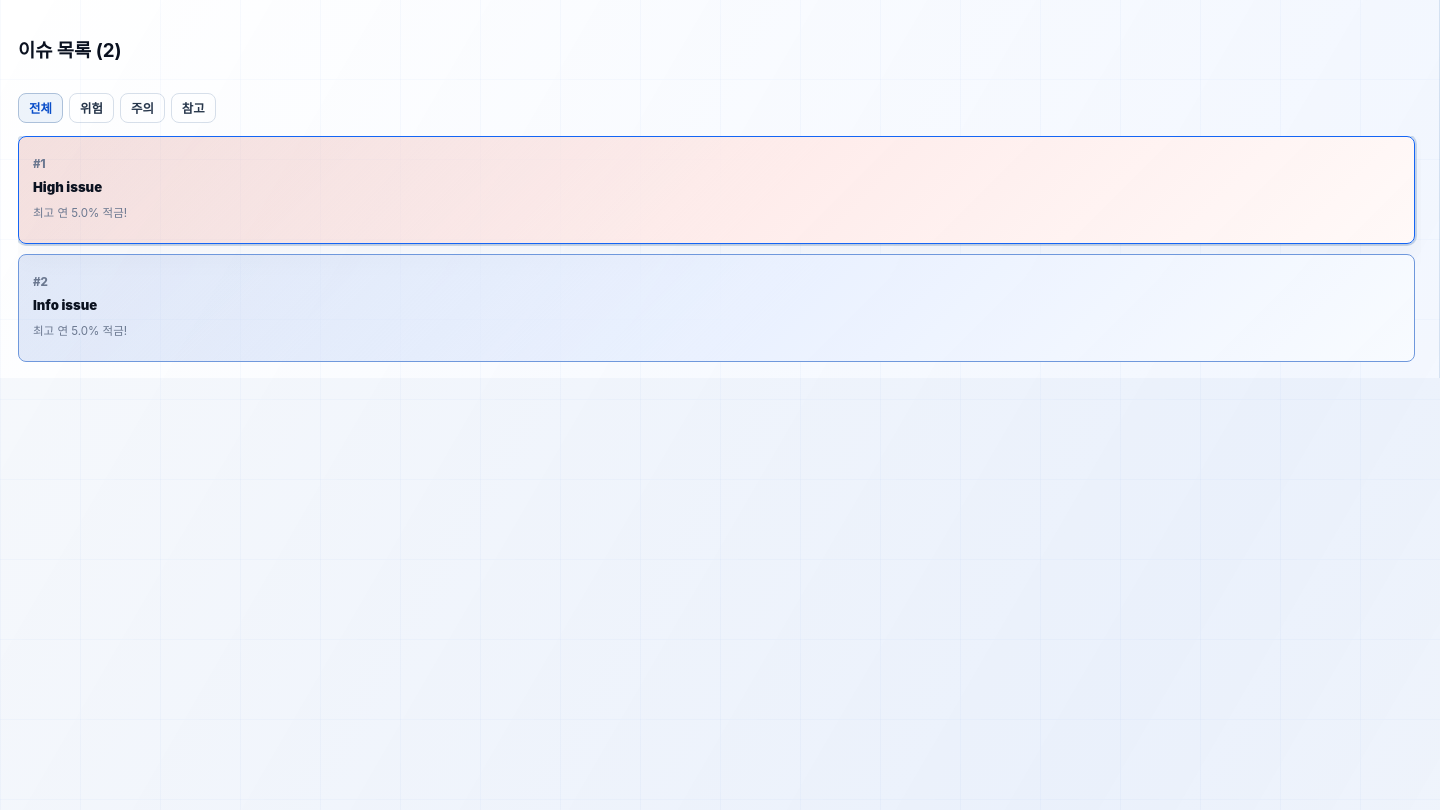
Scenario: IssueList › filters by risk level chip
Click the button "위험". click: (92,108)
box: [69,93,114,123]
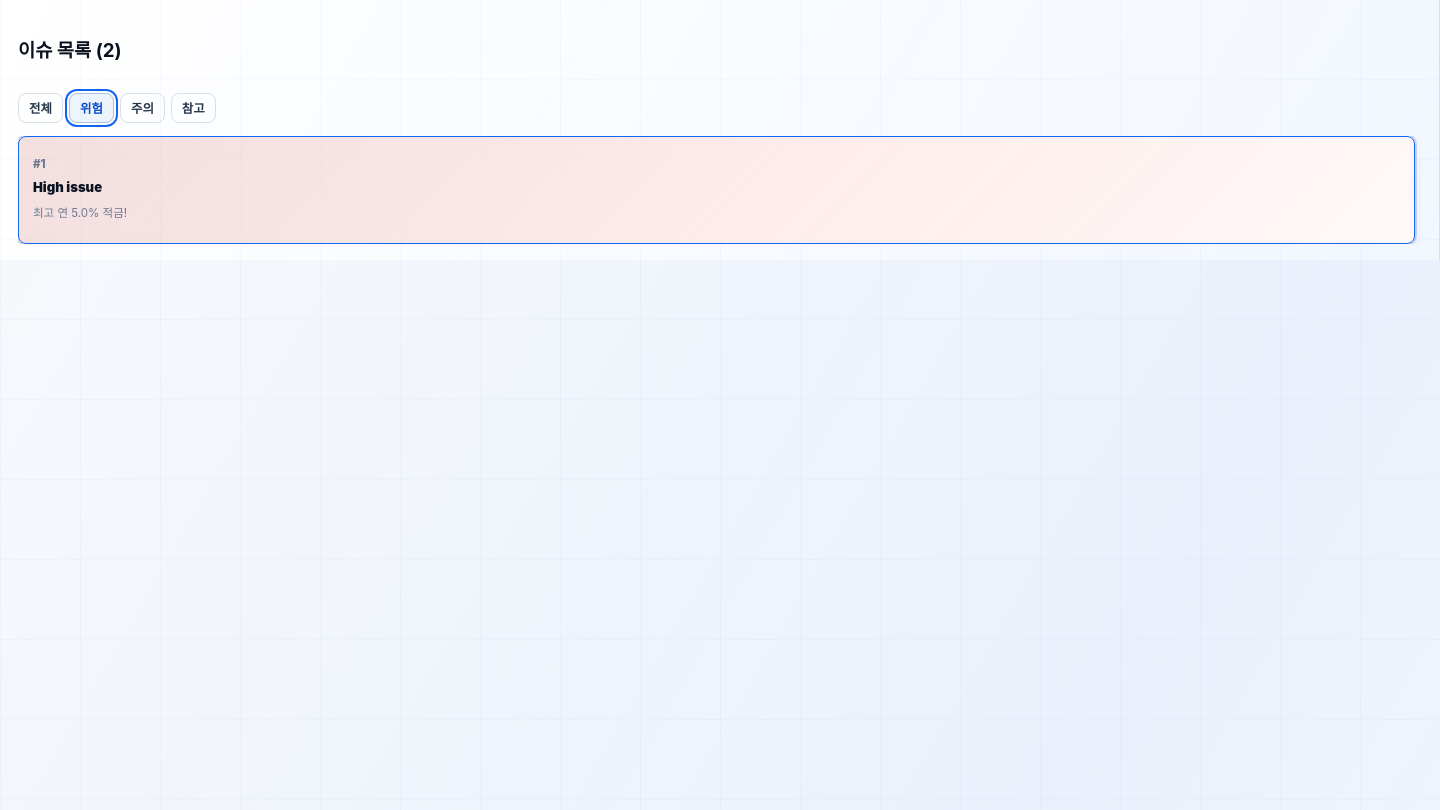
expect the text "High issue" is shown: met, box [33,179,102,195]
expect the button "Info issue" is gone: met
